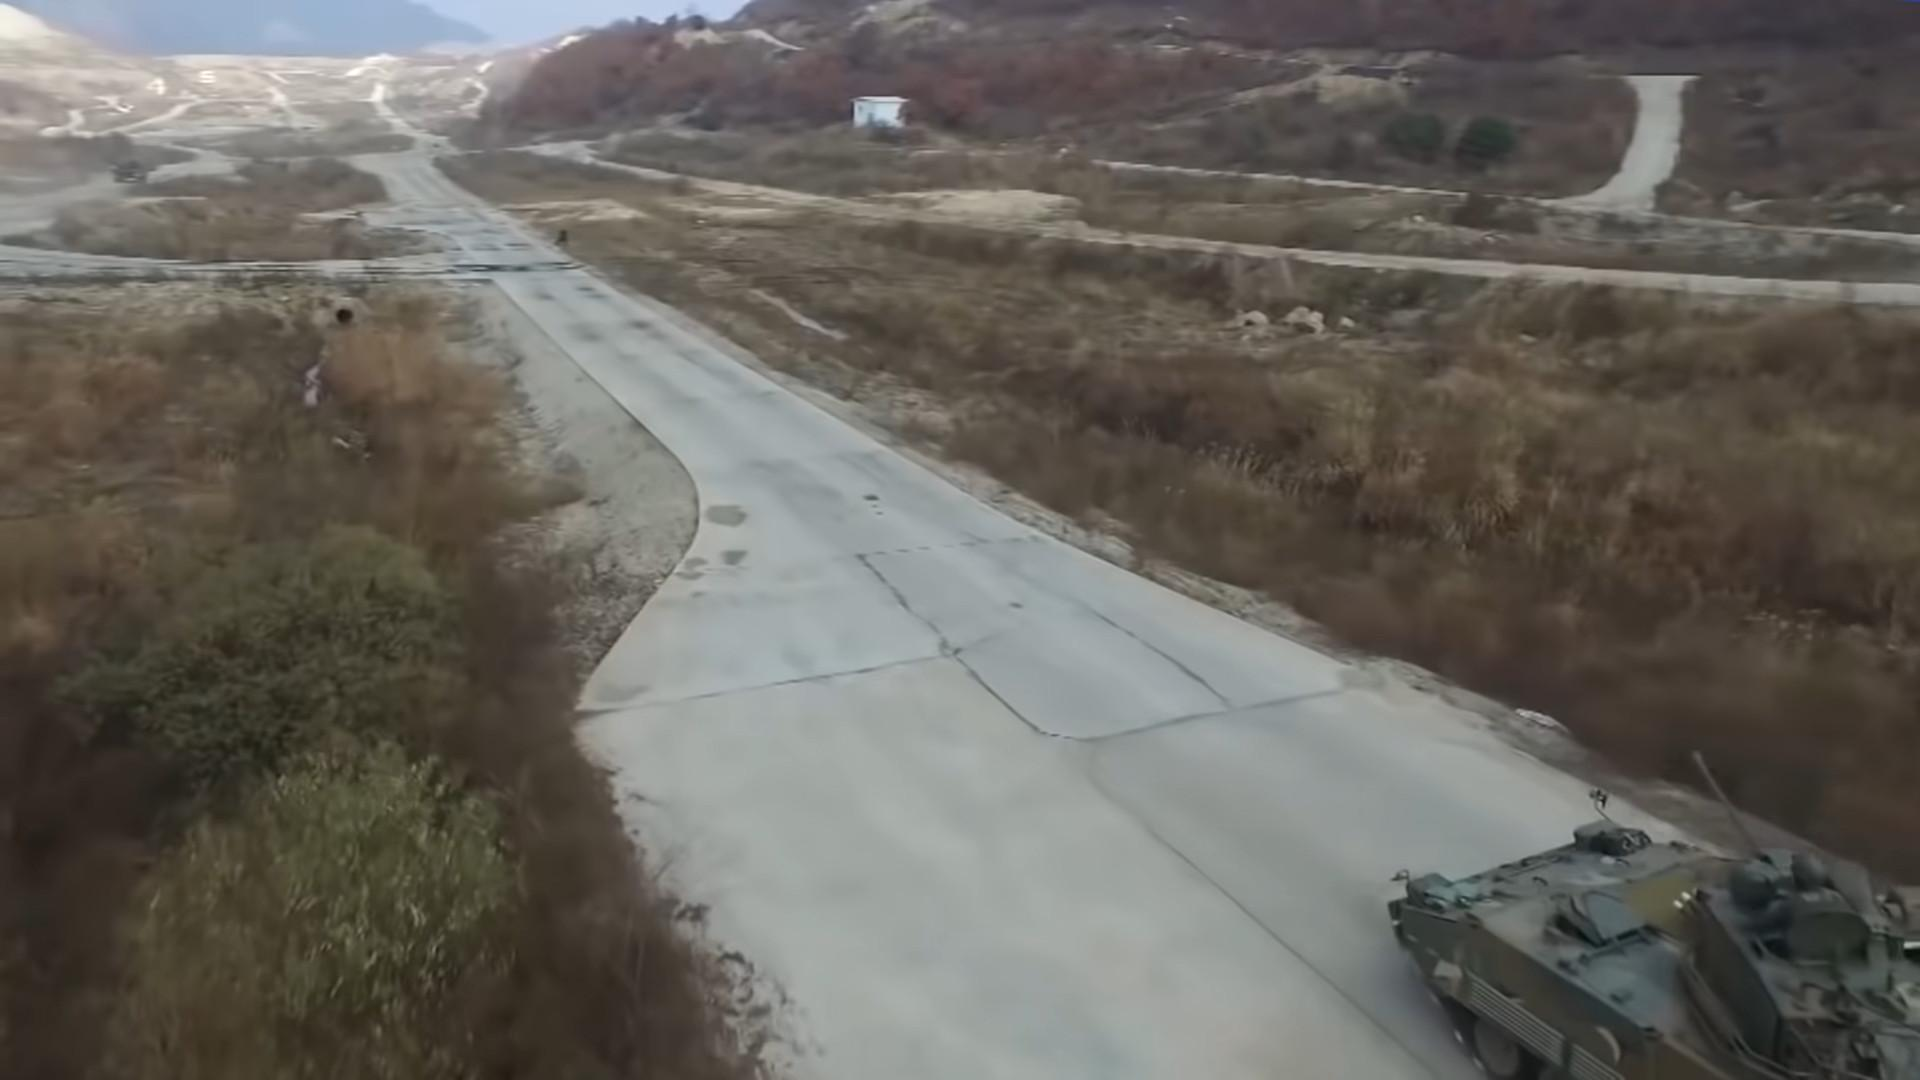tank: (1383, 817, 1919, 1078)
